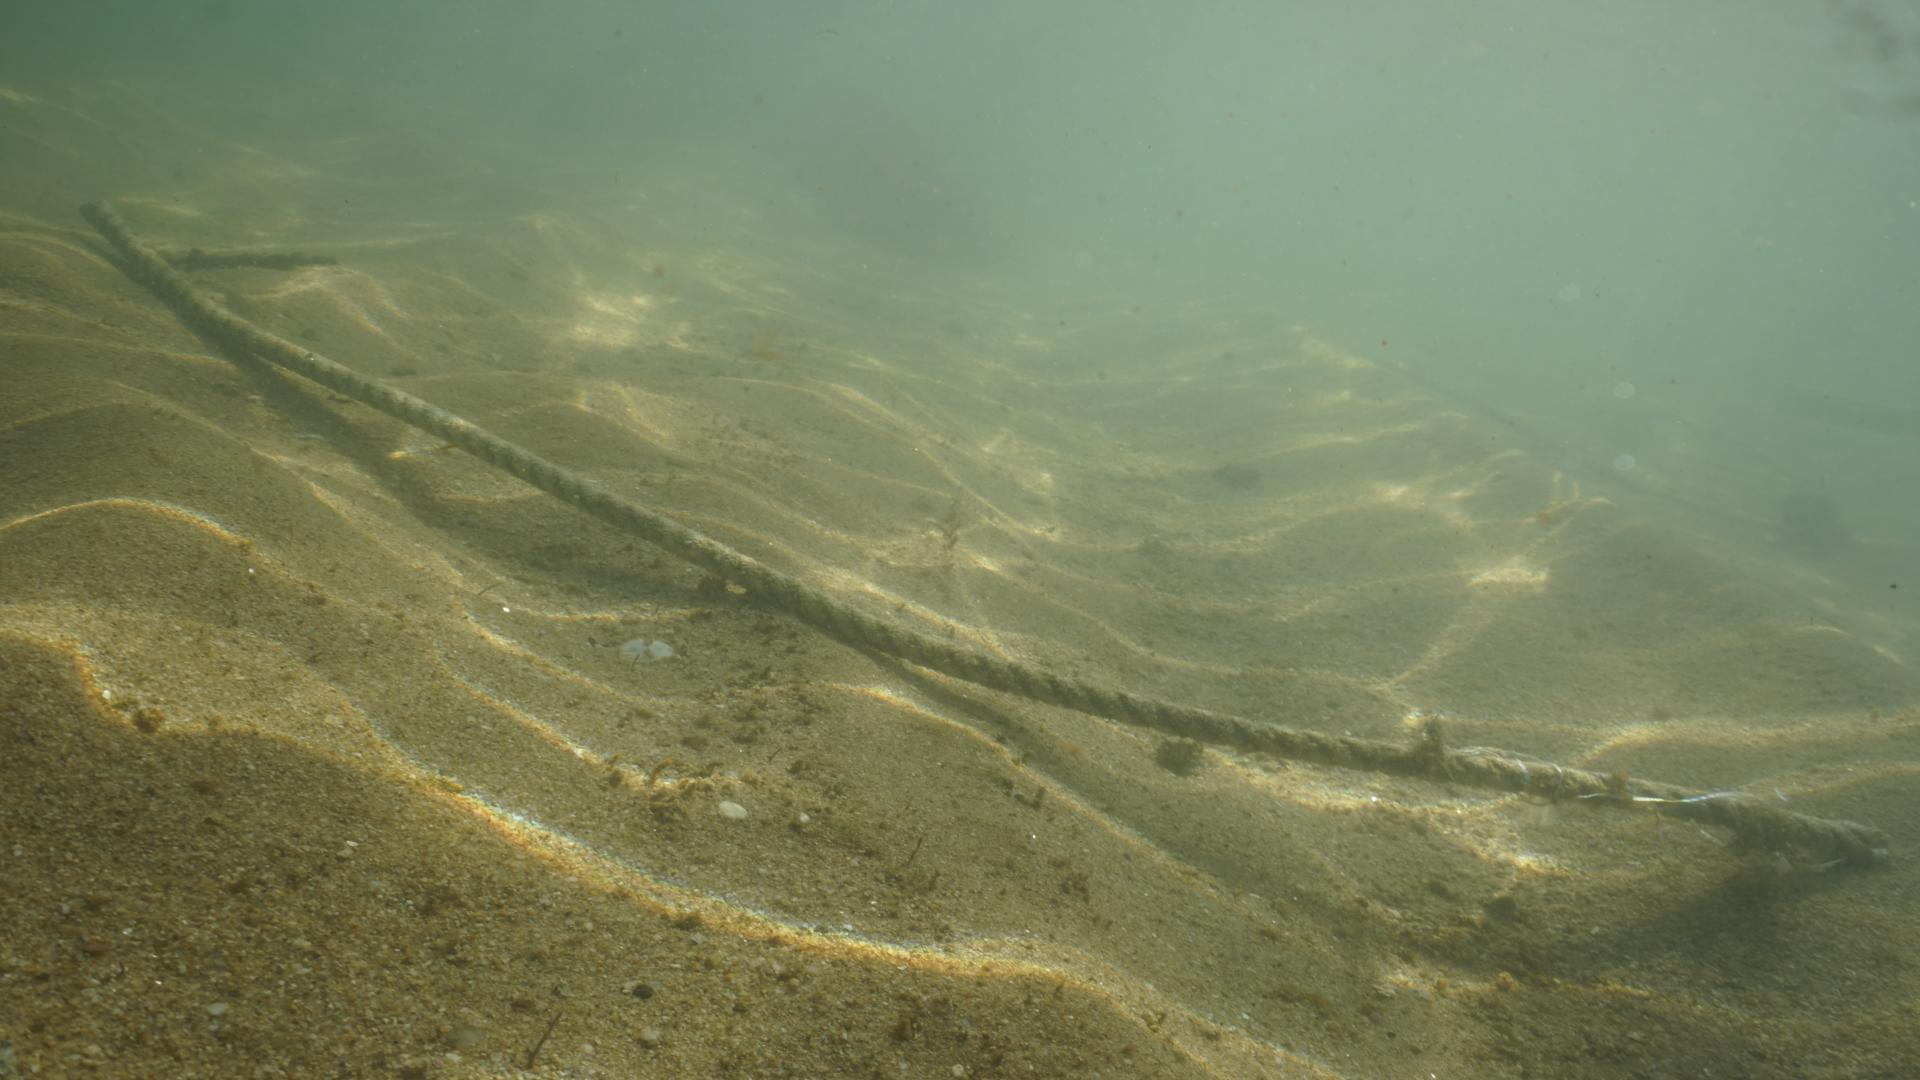rope: (83, 208, 1879, 865)
